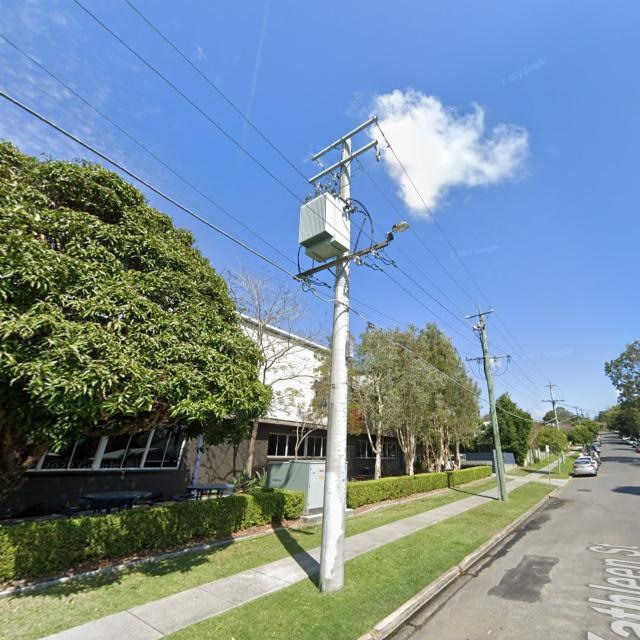HV-transmission: (308, 116, 390, 190), (465, 306, 495, 332), (542, 381, 557, 388)
LV link: (354, 251, 396, 272), (304, 275, 330, 288)
concrete-pole: (317, 139, 352, 593)
crossarm: (292, 242, 390, 280), (308, 139, 379, 184), (311, 116, 380, 162), (466, 353, 511, 363), (466, 309, 496, 320), (541, 399, 564, 403), (543, 384, 558, 388)
streetlight: (385, 221, 410, 239)
timber-pole: (477, 305, 509, 502), (548, 382, 566, 464)
transformer: (297, 188, 348, 260)
